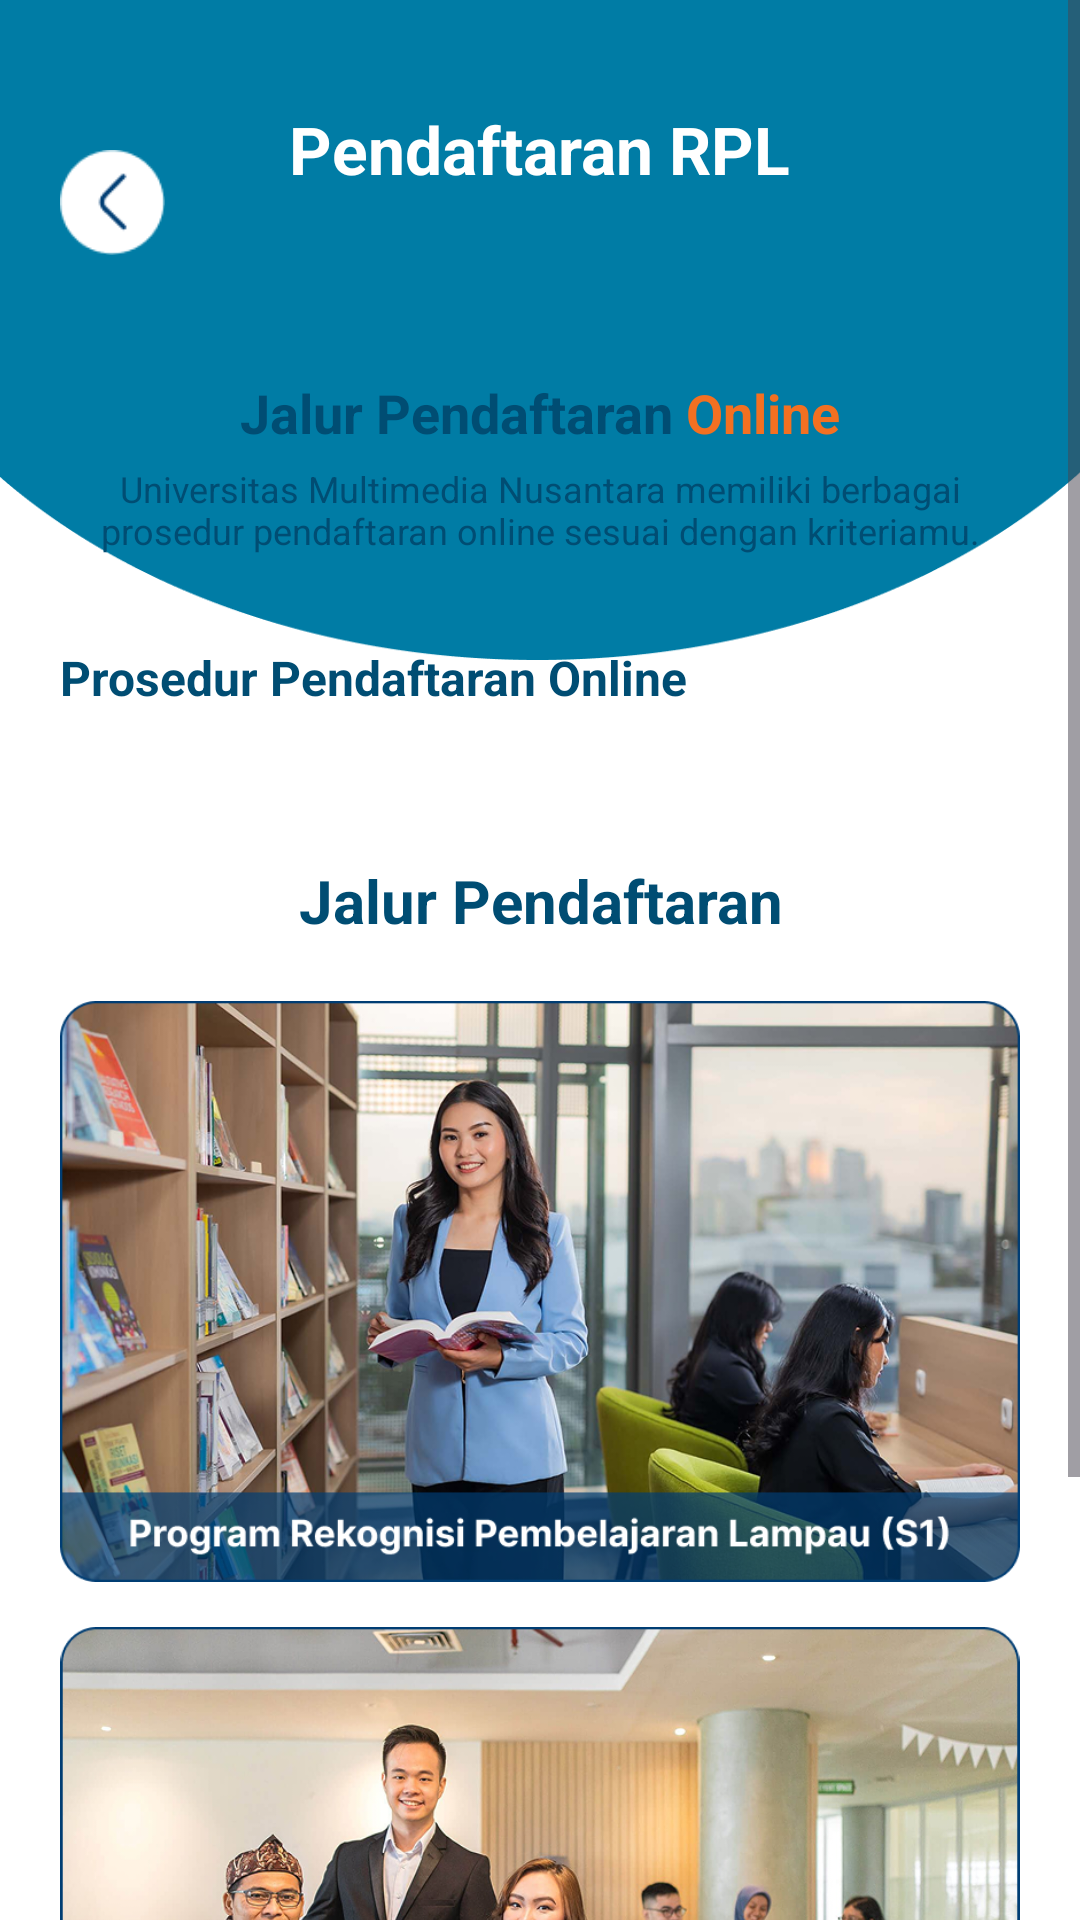

Icon bounding boxes for this 1080w x 1920h phone screenshot, format (x1, y1, x2, y2):
back: (60, 150, 165, 255)
